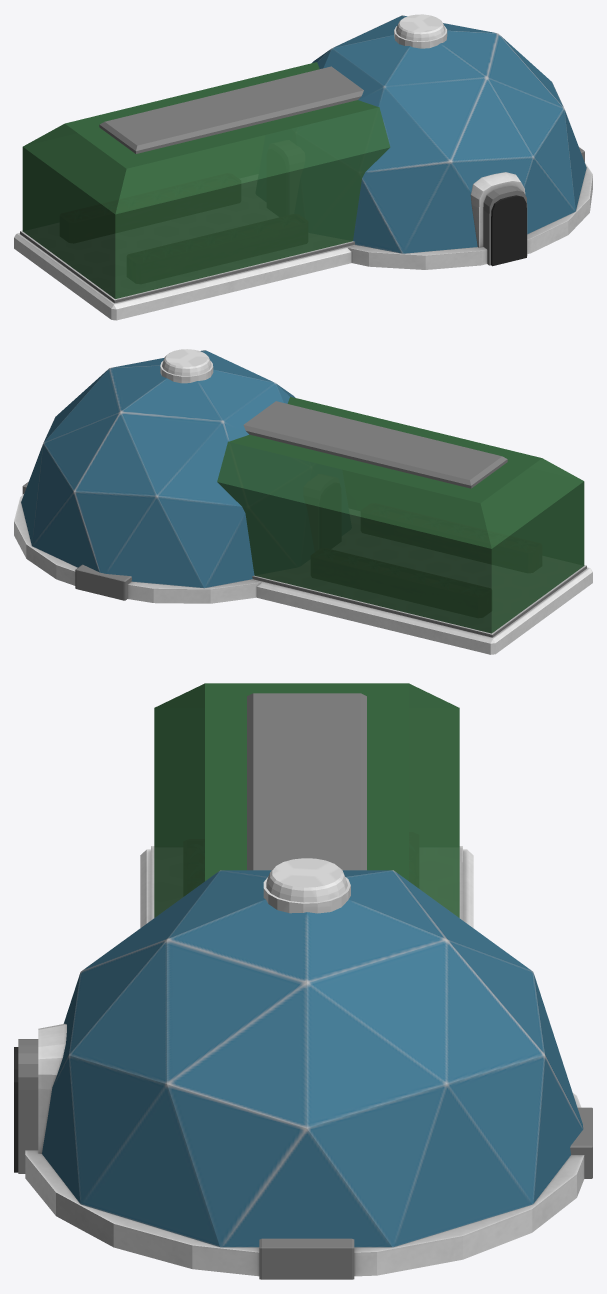
The model's file is greenhouse.glb.
The picture shows the model from 3 angles, top to bottom: view 1: azimuth 30°, elevation 25°; view 2: azimuth 150°, elevation 25°; view 3: azimuth 270°, elevation 25°; orthographic projection. The views are drawn at different scales.
Parts seen in each view (by area): view 1: Cube.006, Icosphere, Cube.001, Circle, Cube.012, Circle.001, Cube.037, Cube; view 2: Cube.006, Icosphere, Cube.001, Circle, Circle.001, Cube.014; view 3: Icosphere, Cube.001, Cube.006, Circle, Circle.001, Cube.013, Cube, Cube.037, Cube.014.
Boxes of the visible parts, <box> form: Cube.006: <box>22,107,390,298</box>; Icosphere: <box>312,15,586,253</box>; Cube.001: <box>14,62,378,320</box>; Circle: <box>348,163,592,269</box>; Cube.012: <box>491,195,526,266</box>; Circle.001: <box>394,14,447,48</box>; Cube.037: <box>470,172,525,247</box>; Cube: <box>483,186,527,265</box>; Cube.006: <box>217,442,584,633</box>; Icosphere: <box>21,350,295,588</box>; Cube.001: <box>228,396,592,654</box>; Circle: <box>14,494,261,603</box>; Circle.001: <box>160,349,213,383</box>; Cube.014: <box>75,564,131,600</box>; Icosphere: <box>42,870,583,1247</box>; Cube.001: <box>140,683,473,927</box>; Cube.006: <box>154,683,459,917</box>; Circle: <box>25,1093,584,1276</box>; Circle.001: <box>263,858,350,913</box>; Cube.013: <box>259,1238,354,1279</box>; Cube: <box>18,1039,38,1173</box>; Cube.037: <box>38,1023,66,1153</box>; Cube.014: <box>570,1107,592,1178</box>.
Bounding box in the file's own units: 3.56 × 1.16 × 2.13.
2 materials, 2 textured.
